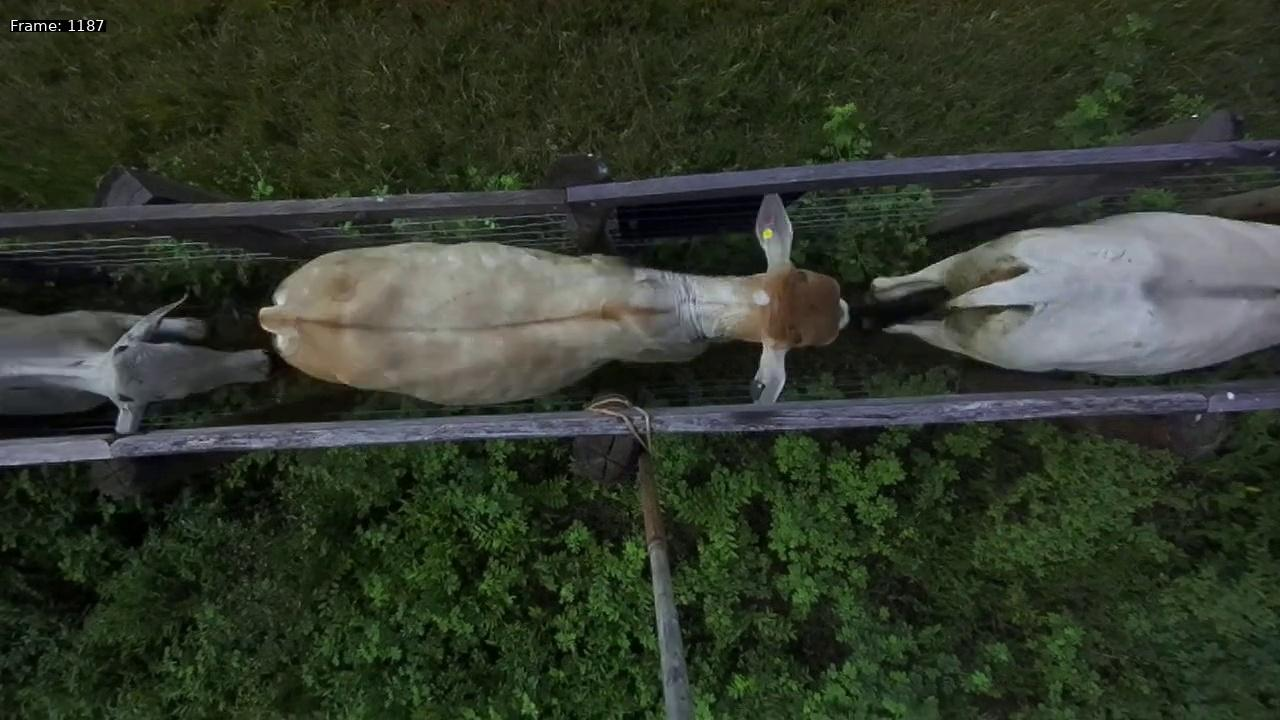cattle: (250, 172, 858, 418)
